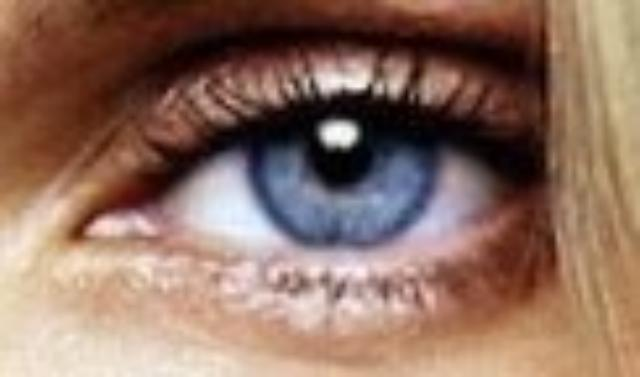eye: (245, 112, 440, 254)
